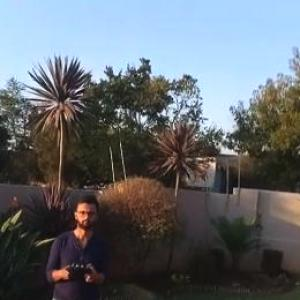follow: (37, 190, 111, 299)
